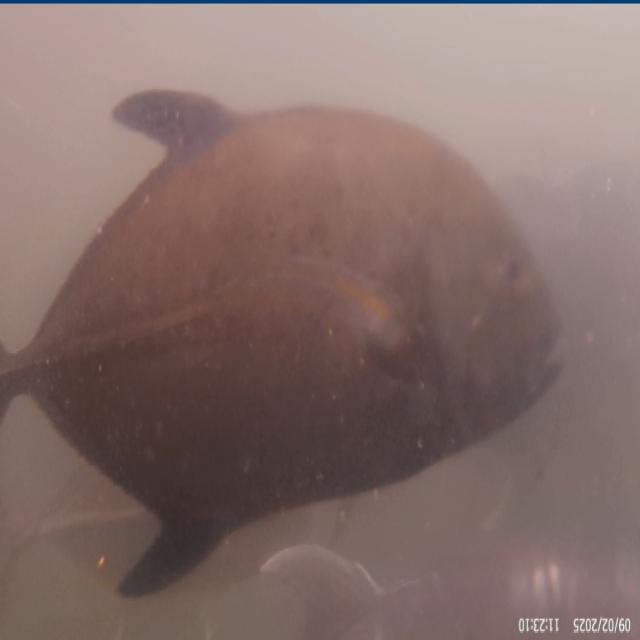ikan: (13, 74, 582, 588)
